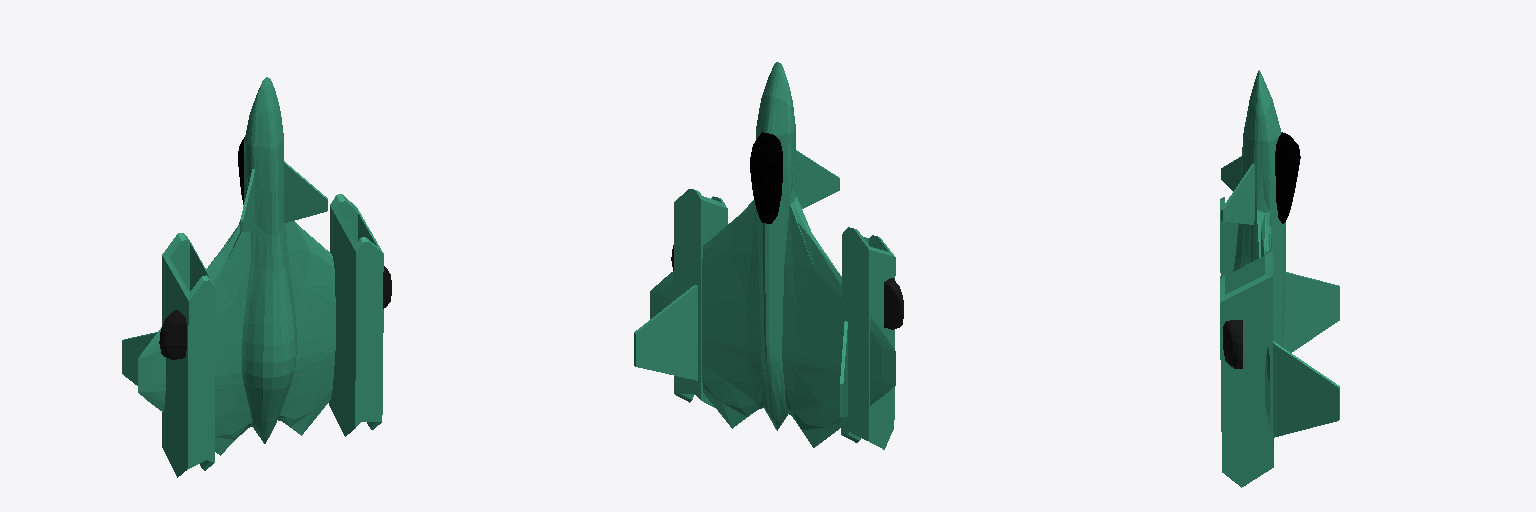
Rendered from aleste-fighter-2.obj.
3 views of the same model, side by side, from view 1: azimuth 30°, elevation 25°; view 2: azimuth 150°, elevation 25°; view 3: azimuth 270°, elevation 25° (orthographic).
Parts seen in each view (by area): view 1: AlesteFighter_Plane; view 2: AlesteFighter_Plane; view 3: AlesteFighter_Plane.
Part boxes in pixels (x1,y1,x2,y2): AlesteFighter_Plane: (122, 77, 391, 477); AlesteFighter_Plane: (634, 62, 903, 449); AlesteFighter_Plane: (1220, 70, 1339, 487).
Bounding box in the file's own units: 2.82 × 4.09 × 1.2.